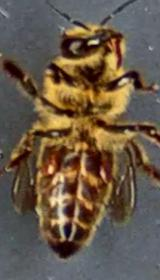varroa_mite: (29, 132, 78, 186), (90, 145, 122, 191)
